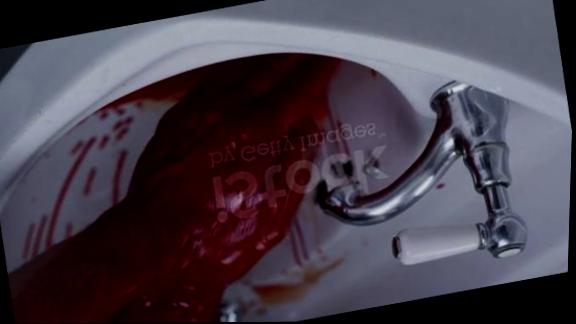Fire: (9, 54, 346, 324), (23, 134, 111, 260), (109, 150, 129, 204), (112, 118, 129, 143)
